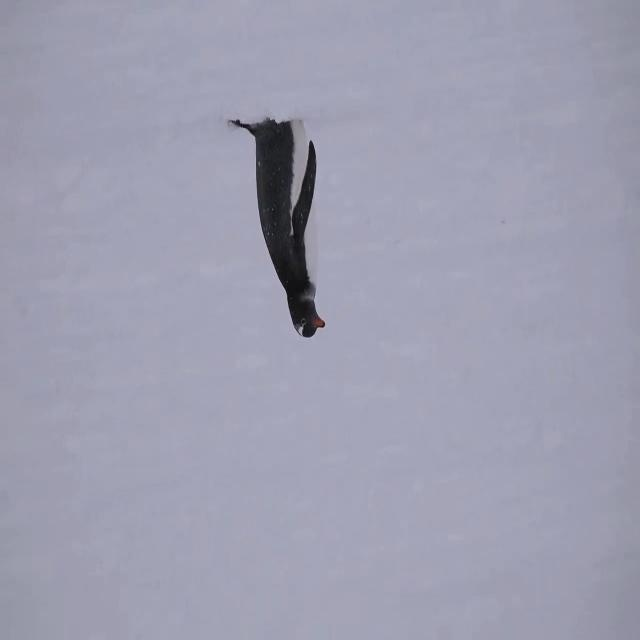penguin: (228, 117, 327, 339)
